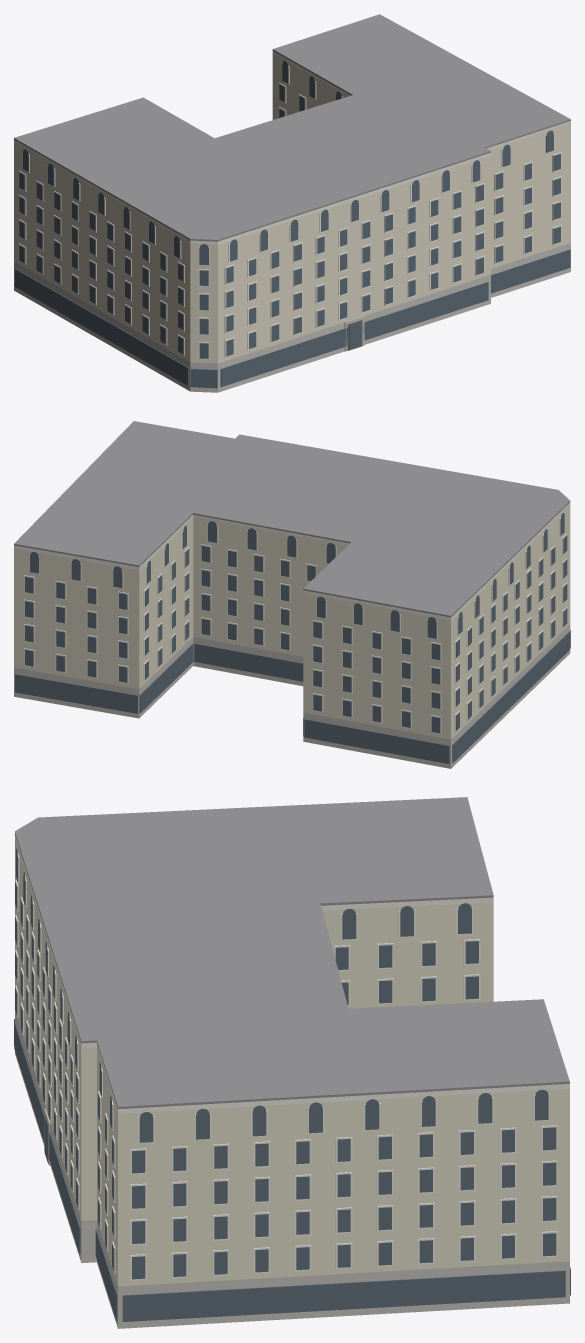
The model's file is s29_tile_tile__2__1_0_detail.glb.
The picture shows the model from 3 angles, top to bottom: view 1: azimuth 30°, elevation 25°; view 2: azimuth 150°, elevation 25°; view 3: azimuth 270°, elevation 25°; orthographic projection. The views are drawn at different scales.
Visible parts, largest first — view 1: roofcap, upper, base, band_1_2.0, band_3_2.0, cornice, band_10_2.0, band_2_2.0; view 2: roofcap, upper, base, band_4_2.0, band_8_2.0, band_3_2.0, cornice, band_6_2.0, band_7_2.0; view 3: roofcap, upper, band_9_2.0, base, cornice, band_1_2.0, band_10_2.0.
Boxes of the visible parts, bbox=[...] form: roofcap: bbox=[14, 14, 570, 241]; upper: bbox=[14, 54, 570, 363]; base: bbox=[14, 243, 570, 392]; band_1_2.0: bbox=[220, 282, 488, 387]; band_3_2.0: bbox=[15, 268, 188, 385]; cornice: bbox=[14, 51, 570, 244]; band_10_2.0: bbox=[491, 249, 570, 293]; band_2_2.0: bbox=[190, 369, 217, 388]; roofcap: bbox=[14, 421, 570, 617]; upper: bbox=[14, 503, 570, 739]; base: bbox=[14, 625, 570, 768]; band_4_2.0: bbox=[304, 719, 449, 763]; band_8_2.0: bbox=[15, 674, 137, 713]; band_3_2.0: bbox=[452, 632, 569, 762]; cornice: bbox=[14, 502, 570, 620]; band_6_2.0: bbox=[194, 643, 303, 681]; band_7_2.0: bbox=[139, 643, 193, 713]; roofcap: bbox=[15, 797, 569, 1109]; upper: bbox=[15, 837, 569, 1286]; band_9_2.0: bbox=[122, 1270, 565, 1321]; base: bbox=[15, 1012, 569, 1328]; cornice: bbox=[15, 835, 569, 1113]; band_1_2.0: bbox=[14, 1022, 80, 1253]; band_10_2.0: bbox=[95, 1229, 117, 1321].
Size of the model in its own units: 66.02 by 22.01 by 50.05.
